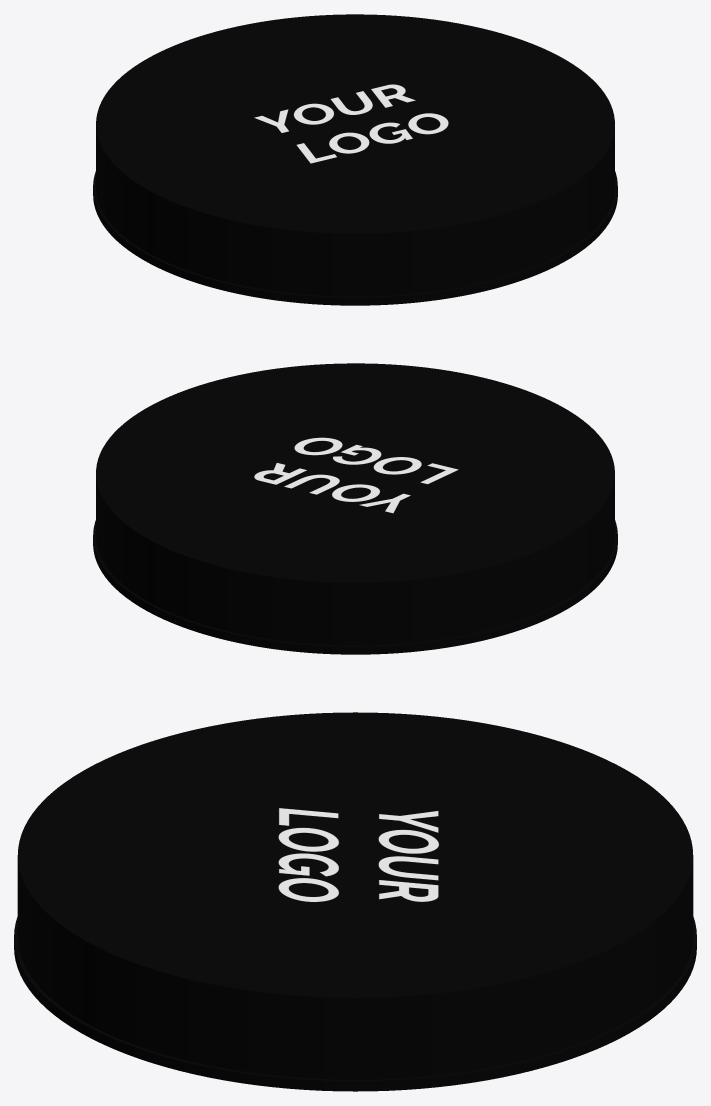
The model's file is Compact powder .gltf.
3 views of the same model, one above another, from view 1: azimuth 30°, elevation 25°; view 2: azimuth 150°, elevation 25°; view 3: azimuth 270°, elevation 25° (orthographic). The views are drawn at different scales.
Parts seen in each view (by area): view 1: Cylinder.008, Cylinder.007, CREAM PUFF-01.001; view 2: Cylinder.008, Cylinder.007, CREAM PUFF-01.001; view 3: Cylinder.008, Cylinder.007, CREAM PUFF-01.001.
Part boxes in pixels (bbox=[...]): Cylinder.008: bbox=[96, 14, 614, 296]; Cylinder.007: bbox=[93, 171, 617, 305]; CREAM PUFF-01.001: bbox=[254, 84, 448, 163]; Cylinder.008: bbox=[96, 363, 614, 645]; Cylinder.007: bbox=[93, 520, 617, 654]; CREAM PUFF-01.001: bbox=[254, 437, 458, 513]; Cylinder.008: bbox=[17, 712, 693, 1079]; Cylinder.007: bbox=[14, 917, 696, 1091]; CREAM PUFF-01.001: bbox=[278, 808, 438, 901].
Size of the model in its own units: 2.02 by 0.3008 by 2.02.
4 materials, 4 textured.
